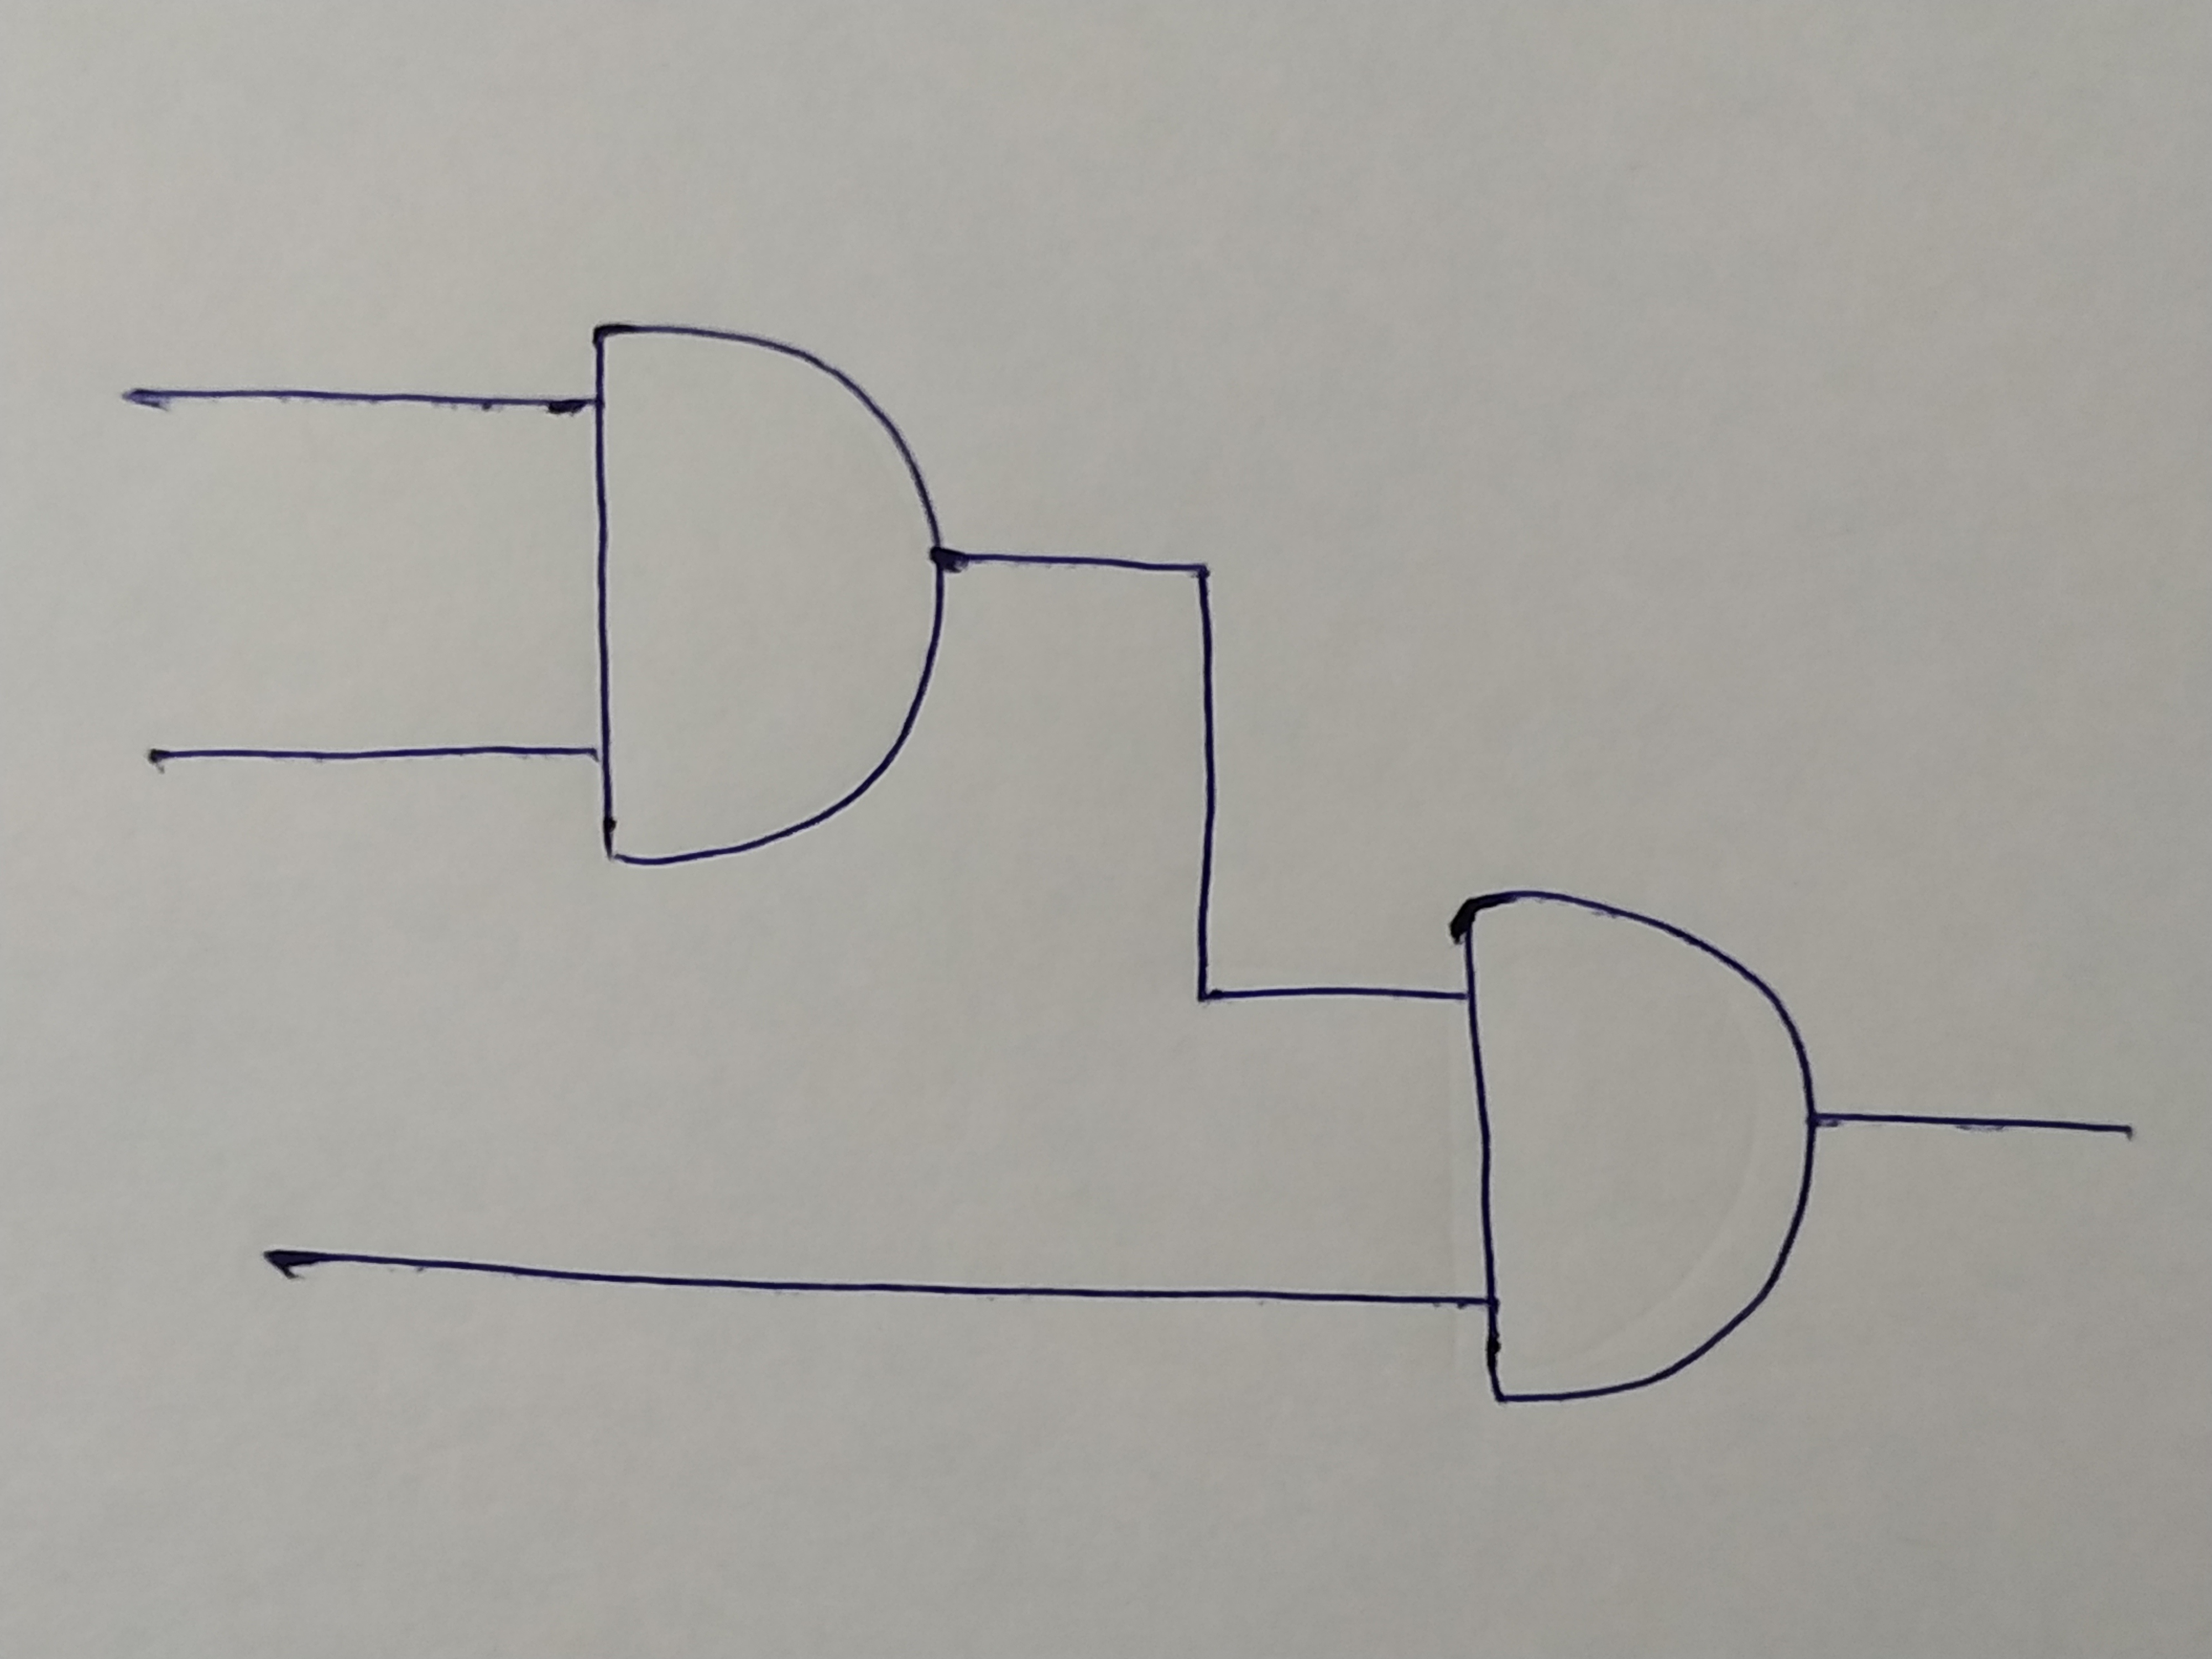and: (578, 319, 941, 861), (1453, 894, 1815, 1406)
